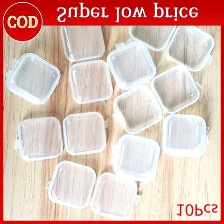plastic_box: (108, 59, 204, 138), (40, 157, 144, 220), (9, 106, 112, 165), (54, 26, 116, 109), (123, 25, 217, 74), (1, 49, 63, 108), (104, 130, 163, 185), (158, 109, 212, 160)
